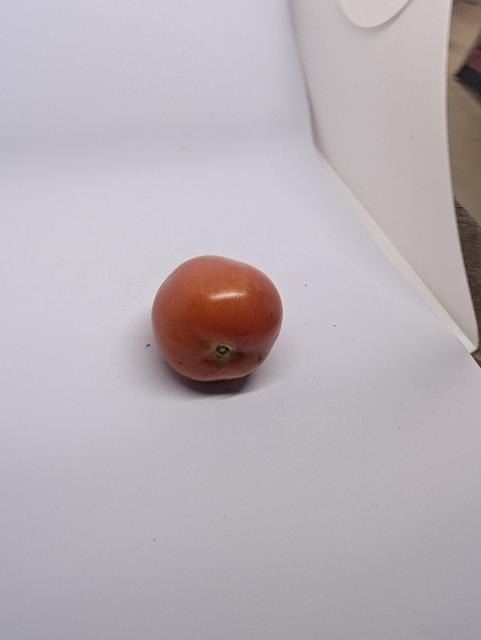red: (152, 250, 289, 393)
